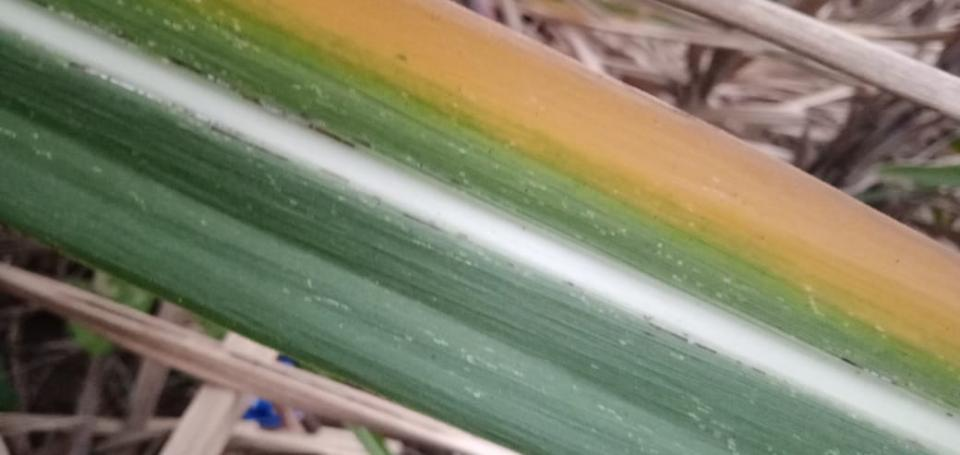Rust: (208, 123, 290, 165), (305, 121, 357, 151), (163, 53, 209, 79), (645, 320, 690, 344), (692, 341, 718, 356), (838, 354, 861, 370), (350, 134, 372, 150)
Yellow: (248, 0, 959, 353)
